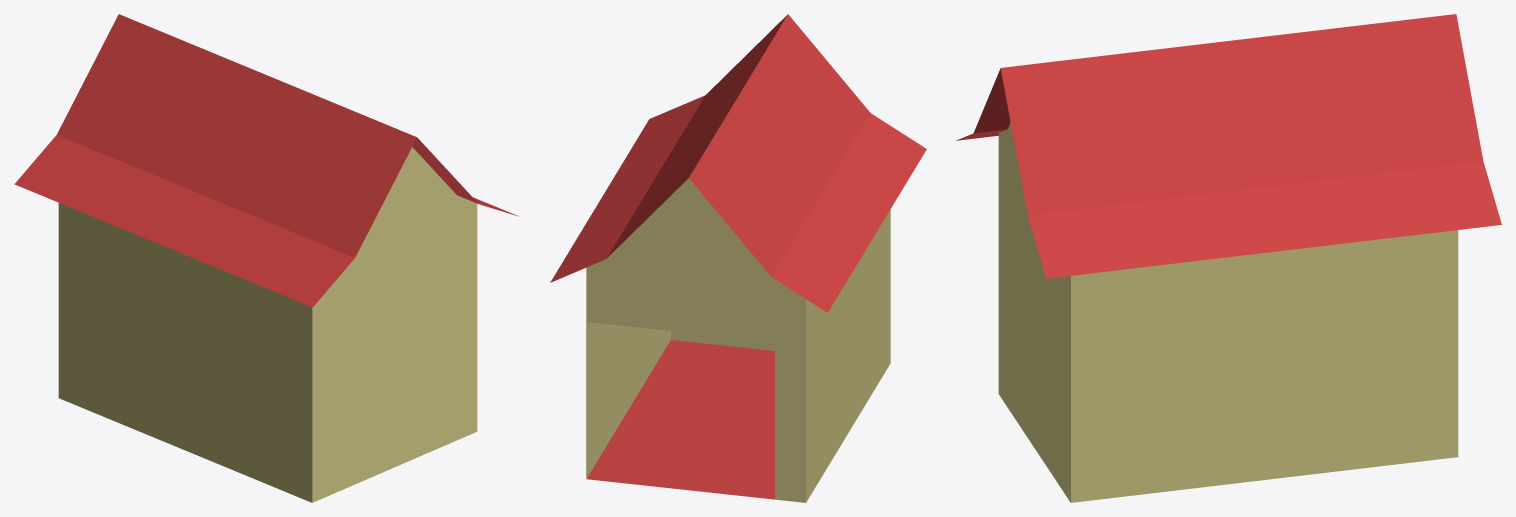
3 views of the same model, side by side, from view 1: azimuth 30°, elevation 25°; view 2: azimuth 150°, elevation 25°; view 3: azimuth 270°, elevation 25° (orthographic). The views are drawn at different scales.
Size of the model in its own units: 12.82 by 15.45 by 11.99.
